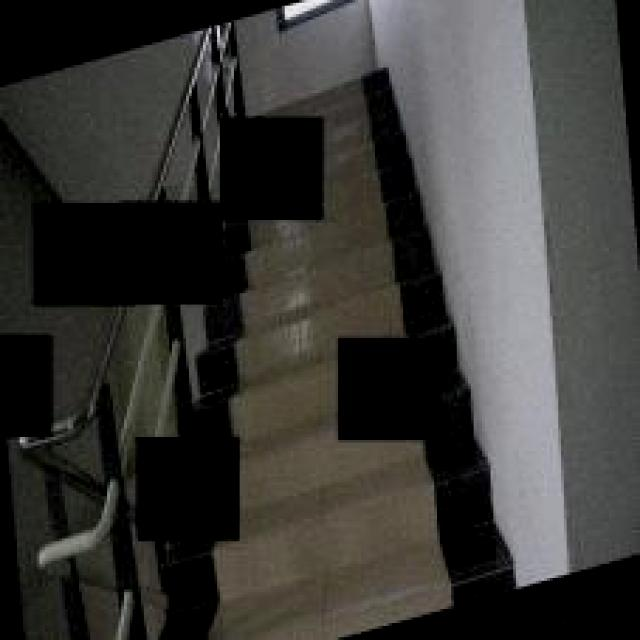upstair: (328, 77, 441, 325)
